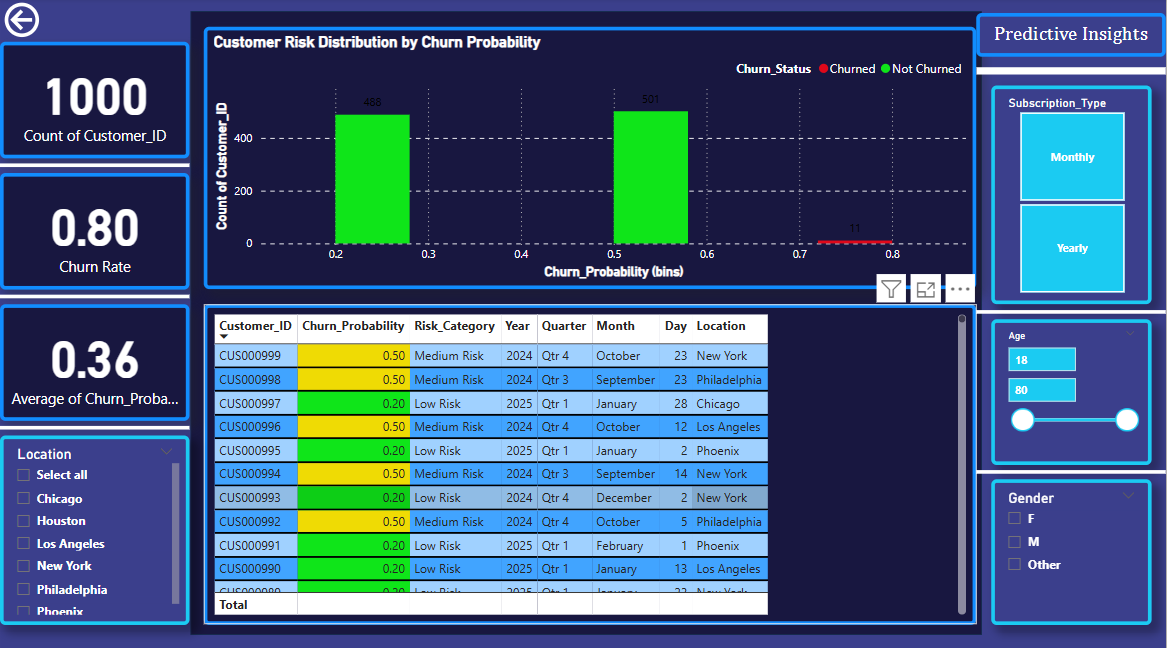

The page's visual inventory and layout, read from the dashboard file:
{"tool":"powerbi","page":{"name":"Predictive Insights","canvas":[1280,720],"ordinal":3},"visuals":[{"type":"clusteredColumnChart","title":"Customer Risk Distribution by Churn Probability","fields":{"Y":["CountNonNull(churn_dataset.Customer_ID)"],"Series":["churn_dataset.Churn_Status"],"Category":["churn_dataset.Churn_Probability (bins)"]},"box":[224,32,848,288],"z":0},{"type":"tableEx","fields":{"Values":["churn_dataset.Customer_ID","churn_dataset.Churn_Probability","churn_dataset.Risk_Category","churn_dataset.Last_Purchase_Date.Variation.Date Hierarchy.Year","churn_dataset.Last_Purchase_Date.Variation.Date Hierarchy.Quarter","churn_dataset.Last_Purchase_Date.Variation.Date Hierarchy.Month","churn_dataset.Last_Purchase_Date.Variation.Date Hierarchy.Day","churn_dataset.Location"]},"box":[224,336,848,352],"z":1000},{"type":"card","fields":{"Values":["CountNonNull(churn_dataset.Customer_ID)"]},"box":[0,48,208,128],"z":2000},{"type":"card","fields":{"Values":["churn_dataset.Churn Rate"]},"box":[0,192,208,128],"z":3000},{"type":"card","fields":{"Values":["Avg(churn_dataset.Churn_Probability)"]},"box":[0,336,208,128],"z":4000},{"type":"slicer","fields":{"Values":["churn_dataset.Subscription_Type"]},"box":[1088,96,176,240],"z":5000},{"type":"slicer","fields":{"Values":["churn_dataset.Age"]},"box":[1088,352,176,160],"z":6000},{"type":"slicer","fields":{"Values":["churn_dataset.Gender"]},"box":[1088,528,176,160],"z":7000},{"type":"slicer","fields":{"Values":["churn_dataset.Location"]},"box":[0,480,208,208],"z":8000},{"type":"shape","box":[0,80,208,208],"z":9000},{"type":"shape","box":[0,224,208,208],"z":10000},{"type":"shape","box":[0,368,208,208],"z":11000},{"type":"shape","box":[1072,256,208,176],"z":12000},{"type":"shape","box":[1072,432,208,176],"z":13000},{"type":"actionButton","box":[0,0,48,48],"z":14000},{"type":"textbox","box":[1072,16,208,48],"z":15000},{"type":"shape","box":[1072,0,208,160],"z":16000}]}

Visuals, with their boxes in screenshot pixels (x1, y1, x2, y2), scaled from the page's 1280x720 canvas onto the 1167x648 screenshot:
"Customer Risk Distribution by Churn Probability" clusteredColumnChart: rect(204, 29, 977, 288)
tableEx - churn_dataset.Customer_ID x churn_dataset.Churn_Probability: rect(204, 302, 977, 619)
card - CountNonNull(churn_dataset.Customer_ID): rect(0, 43, 190, 158)
card - churn_dataset.Churn Rate: rect(0, 173, 190, 288)
card - Avg(churn_dataset.Churn_Probability): rect(0, 302, 190, 418)
slicer - churn_dataset.Subscription_Type: rect(992, 86, 1152, 302)
slicer - churn_dataset.Age: rect(992, 317, 1152, 461)
slicer - churn_dataset.Gender: rect(992, 475, 1152, 619)
slicer - churn_dataset.Location: rect(0, 432, 190, 619)
shape: rect(0, 72, 190, 259)
shape: rect(0, 202, 190, 389)
shape: rect(0, 331, 190, 518)
shape: rect(977, 230, 1166, 389)
shape: rect(977, 389, 1166, 547)
actionButton: rect(0, 0, 44, 43)
textbox: rect(977, 14, 1166, 58)
shape: rect(977, 0, 1166, 144)
